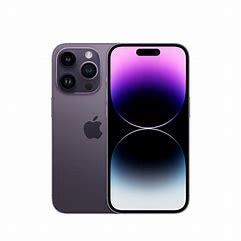-iphone13: (49, 40, 194, 216)
